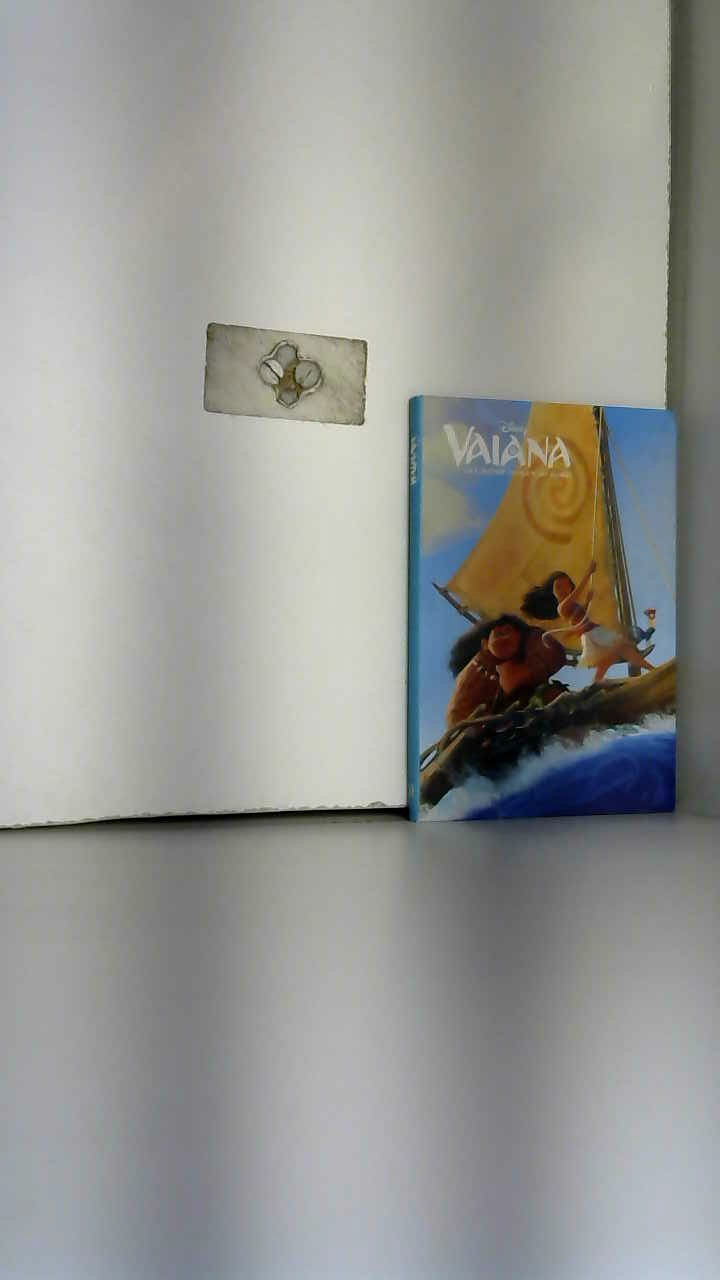book: (368, 351, 720, 847)
